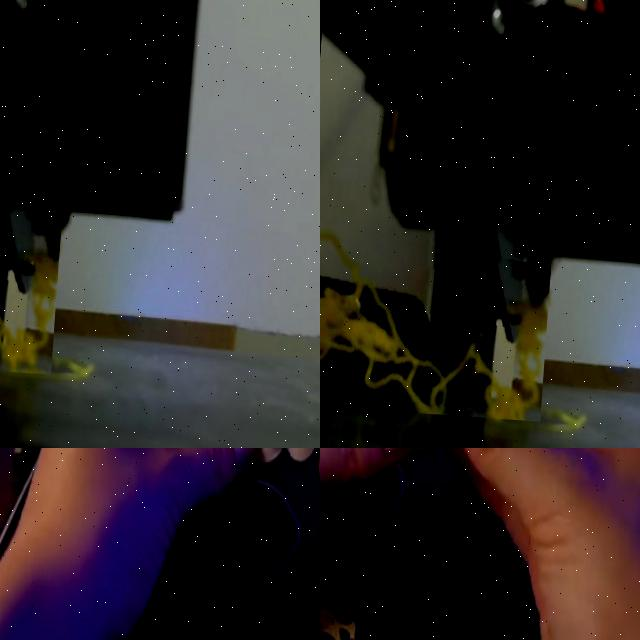spaghetti: (320, 229, 547, 420), (0, 246, 58, 374)
